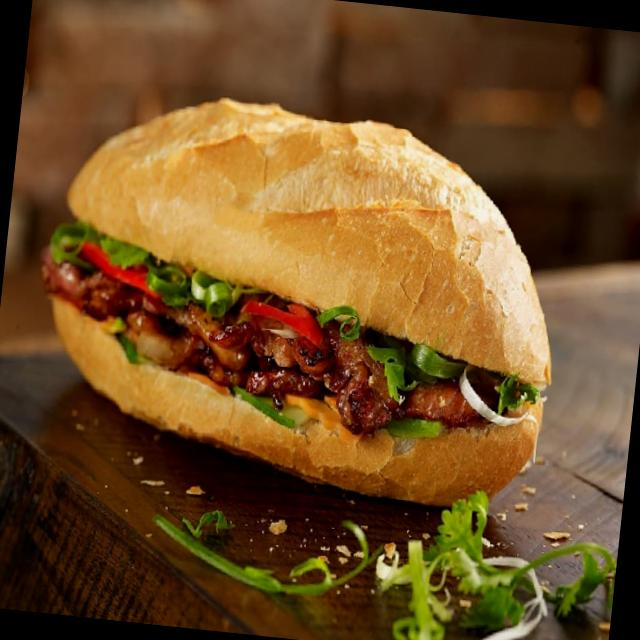banh mi: (42, 99, 550, 505)
